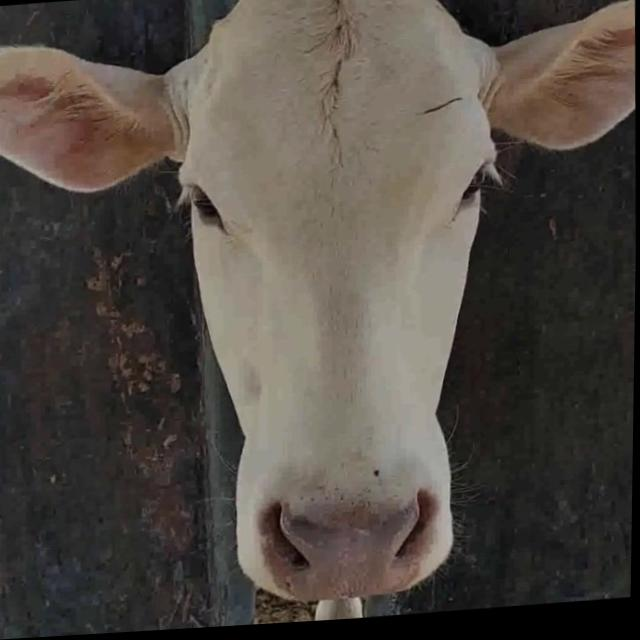cowFace: (167, 0, 508, 611)
